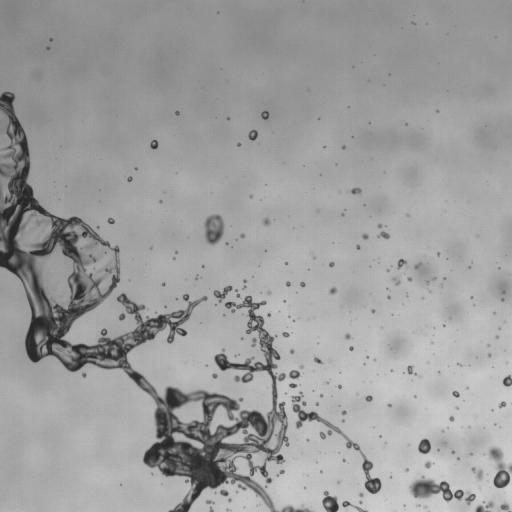droplet: (204, 214, 224, 245), (322, 490, 340, 511), (213, 285, 233, 302), (417, 438, 431, 454), (470, 467, 483, 481), (496, 502, 511, 511), (396, 258, 407, 269), (253, 119, 264, 130), (24, 174, 35, 185), (367, 226, 378, 237), (402, 263, 413, 274), (139, 308, 150, 319), (71, 317, 82, 328), (126, 319, 137, 330), (85, 335, 96, 346), (276, 380, 287, 391), (179, 383, 190, 394), (146, 400, 157, 411), (241, 400, 252, 411), (258, 405, 269, 416), (286, 411, 297, 422), (146, 421, 157, 432), (285, 425, 296, 436), (147, 433, 158, 444), (462, 456, 473, 467), (266, 460, 277, 471), (423, 470, 434, 481), (172, 474, 183, 485), (182, 481, 193, 492), (264, 483, 275, 494), (201, 486, 212, 497), (172, 494, 183, 505), (501, 454, 511, 465), (502, 374, 511, 386), (377, 231, 390, 239), (248, 129, 257, 140), (392, 275, 401, 285), (150, 138, 158, 149), (13, 108, 22, 117), (27, 152, 36, 161), (405, 257, 414, 266), (390, 267, 399, 276), (232, 280, 241, 289), (290, 280, 299, 289), (389, 285, 398, 294), (111, 287, 120, 296), (225, 291, 234, 300), (178, 300, 187, 309), (116, 303, 125, 312), (190, 307, 199, 316), (82, 310, 91, 319), (125, 312, 134, 321), (22, 317, 31, 326), (106, 330, 115, 339), (17, 343, 26, 352), (125, 351, 134, 360), (82, 362, 91, 371), (130, 362, 139, 371), (226, 367, 235, 376), (327, 383, 336, 392), (157, 388, 166, 397), (283, 403, 292, 412), (330, 416, 339, 425), (494, 440, 503, 449), (278, 446, 287, 455), (421, 452, 430, 461), (368, 469, 377, 478), (273, 501, 282, 510), (424, 460, 434, 468), (350, 187, 361, 194), (406, 504, 417, 511), (261, 110, 269, 119), (262, 217, 270, 226), (328, 286, 337, 294), (505, 291, 511, 302), (505, 365, 511, 376), (505, 392, 511, 403), (489, 505, 500, 511), (414, 262, 422, 269), (118, 313, 125, 321), (344, 333, 352, 340), (365, 395, 373, 402), (498, 401, 506, 408), (0, 109, 5, 120), (0, 145, 5, 156), (0, 265, 5, 276), (195, 274, 202, 281), (452, 390, 459, 397), (11, 99, 18, 106), (19, 120, 26, 127), (3, 137, 10, 144), (26, 142, 33, 149), (6, 157, 13, 164), (31, 191, 38, 198), (209, 208, 216, 215), (62, 212, 69, 219), (199, 215, 206, 222), (199, 226, 206, 233), (218, 236, 225, 243), (358, 238, 365, 245), (117, 250, 124, 257), (118, 272, 125, 279), (399, 275, 406, 282), (251, 296, 258, 303), (235, 297, 242, 304), (241, 306, 248, 313), (159, 308, 166, 315), (253, 308, 260, 315), (163, 324, 170, 331), (251, 329, 258, 336), (173, 332, 180, 339), (489, 337, 496, 344), (144, 338, 151, 345), (346, 338, 353, 345), (270, 341, 277, 348), (22, 354, 29, 361), (47, 354, 54, 361), (226, 355, 233, 362), (237, 357, 244, 364), (213, 365, 220, 372), (116, 367, 123, 374), (237, 368, 244, 375), (284, 376, 291, 383), (128, 378, 135, 385), (170, 381, 177, 388), (206, 387, 213, 394), (291, 388, 298, 395), (228, 392, 235, 399), (303, 406, 310, 413), (316, 409, 323, 416), (302, 418, 309, 425), (337, 422, 344, 429), (321, 425, 328, 432), (144, 442, 151, 449), (482, 446, 489, 453), (137, 451, 144, 458), (141, 463, 148, 470), (152, 466, 159, 473), (490, 468, 497, 475), (469, 472, 476, 479), (171, 474, 178, 481), (433, 477, 440, 484), (218, 482, 225, 489), (245, 487, 252, 494), (406, 491, 413, 498), (415, 496, 422, 503), (470, 500, 477, 507), (493, 501, 500, 508), (361, 233, 369, 239), (506, 401, 511, 410), (336, 506, 345, 511), (345, 506, 354, 511), (107, 217, 114, 223), (281, 332, 289, 337), (335, 384, 342, 389), (127, 176, 132, 182), (329, 261, 334, 267), (300, 281, 305, 287), (342, 458, 348, 463), (358, 492, 364, 497), (187, 507, 194, 511), (263, 507, 270, 511), (417, 507, 424, 511), (240, 233, 245, 238), (356, 244, 361, 249), (285, 281, 290, 286), (266, 290, 271, 295), (289, 349, 294, 354), (81, 372, 86, 377), (212, 373, 217, 378), (341, 410, 346, 415), (449, 416, 454, 421), (47, 41, 52, 46), (7, 87, 12, 92), (3, 134, 8, 139), (156, 144, 161, 149), (6, 148, 11, 153), (350, 183, 355, 188), (353, 192, 358, 197), (49, 209, 54, 214), (76, 213, 81, 218), (258, 216, 263, 221), (81, 217, 86, 222), (268, 217, 273, 222), (262, 224, 267, 229), (380, 226, 385, 231), (93, 227, 98, 232), (376, 227, 381, 232), (383, 227, 388, 232), (362, 228, 367, 233), (235, 233, 240, 238), (102, 236, 107, 241), (238, 237, 243, 242), (109, 242, 114, 247), (327, 257, 332, 262), (393, 258, 398, 263), (413, 259, 418, 264), (392, 261, 397, 266), (401, 263, 406, 268), (418, 265, 423, 270), (245, 275, 250, 280), (437, 276, 442, 281), (115, 281, 120, 286), (222, 282, 227, 287), (326, 284, 331, 289), (218, 288, 223, 293), (181, 289, 186, 294), (384, 290, 389, 295), (332, 292, 337, 297), (502, 293, 507, 298), (126, 294, 131, 299), (178, 296, 183, 301), (188, 296, 193, 301), (470, 298, 475, 303), (135, 300, 140, 305), (199, 300, 204, 305), (258, 304, 263, 309), (137, 309, 142, 314), (114, 312, 119, 317), (130, 312, 135, 317), (152, 313, 157, 318), (188, 314, 193, 319), (245, 315, 250, 320), (262, 315, 267, 320), (141, 316, 146, 321), (178, 323, 183, 328), (261, 323, 266, 328), (496, 330, 501, 335), (268, 331, 273, 336), (340, 331, 345, 336), (349, 331, 354, 336), (86, 341, 91, 346), (139, 342, 144, 347), (167, 342, 172, 347), (255, 342, 260, 347), (287, 344, 292, 349), (486, 347, 491, 352), (215, 349, 220, 354), (317, 354, 322, 359), (271, 358, 276, 363), (364, 358, 369, 363), (262, 360, 267, 365), (59, 363, 64, 368), (96, 366, 101, 371), (295, 366, 300, 371), (100, 367, 105, 372), (411, 367, 416, 372), (104, 368, 109, 373), (262, 369, 267, 374), (284, 370, 289, 375), (502, 372, 507, 377), (409, 373, 414, 378), (267, 377, 272, 382), (291, 378, 296, 383), (237, 379, 242, 384), (275, 379, 280, 384), (246, 380, 251, 385), (498, 380, 503, 385), (267, 386, 272, 391), (457, 388, 462, 393), (216, 389, 221, 394), (141, 390, 146, 395), (267, 393, 272, 398), (299, 396, 304, 401), (317, 397, 322, 402), (275, 398, 280, 403), (370, 398, 375, 403), (364, 400, 369, 405), (505, 401, 510, 406), (339, 405, 344, 410), (247, 406, 252, 411), (336, 410, 341, 415), (338, 413, 343, 418), (342, 414, 347, 419), (311, 418, 316, 423), (447, 420, 452, 425), (331, 430, 336, 435), (284, 431, 289, 436), (420, 434, 425, 439), (351, 437, 356, 442), (341, 438, 346, 443), (415, 439, 420, 444), (428, 439, 433, 444), (277, 449, 282, 454), (419, 452, 424, 457), (451, 453, 456, 458), (366, 456, 371, 461), (358, 458, 363, 463), (429, 464, 434, 469), (264, 465, 269, 470), (474, 465, 479, 470), (359, 469, 364, 474), (467, 469, 472, 474), (267, 472, 272, 477), (379, 478, 384, 483), (445, 478, 450, 483), (488, 479, 493, 484), (266, 482, 271, 487), (380, 482, 385, 487), (498, 486, 503, 491), (237, 487, 242, 492), (450, 488, 455, 493), (363, 489, 368, 494), (376, 490, 381, 495), (328, 491, 333, 496), (227, 492, 232, 497), (320, 493, 325, 498), (222, 495, 227, 500), (256, 495, 261, 500), (451, 496, 456, 501), (499, 499, 504, 504), (336, 500, 341, 505), (226, 502, 231, 507), (303, 503, 308, 508), (359, 503, 364, 508), (169, 504, 174, 509), (292, 504, 297, 509), (175, 110, 179, 115), (174, 250, 178, 255), (407, 277, 412, 281), (267, 312, 271, 317), (349, 346, 353, 351), (299, 364, 303, 369), (404, 468, 409, 472), (227, 497, 231, 502), (209, 506, 213, 511), (46, 46, 50, 50), (435, 109, 439, 113), (226, 116, 230, 120), (237, 142, 241, 146), (341, 145, 345, 149), (249, 194, 253, 198), (158, 199, 162, 203), (406, 213, 410, 217), (162, 282, 166, 286), (386, 287, 390, 291), (427, 289, 431, 293), (501, 290, 505, 294), (371, 309, 375, 313), (495, 335, 499, 339), (430, 340, 434, 344), (487, 353, 491, 357), (319, 393, 323, 397), (413, 394, 417, 398), (315, 402, 319, 406), (387, 403, 391, 407), (341, 418, 345, 422), (451, 450, 455, 454), (456, 456, 460, 460), (358, 500, 362, 504), (410, 21, 415, 24), (437, 252, 440, 257), (226, 508, 231, 511), (508, 478, 511, 483), (508, 504, 511, 509), (241, 508, 246, 511), (321, 508, 326, 511), (352, 508, 357, 511), (421, 508, 426, 511), (134, 167, 138, 170), (316, 208, 319, 212), (149, 246, 152, 250), (284, 261, 287, 265), (201, 264, 204, 268), (386, 268, 389, 272), (387, 295, 390, 299), (164, 304, 167, 308), (492, 311, 496, 314), (288, 314, 291, 318), (486, 344, 490, 347), (366, 355, 369, 359), (390, 368, 393, 372), (437, 371, 441, 374), (465, 386, 469, 389), (455, 406, 459, 409), (441, 429, 444, 433), (306, 438, 309, 442), (337, 480, 340, 484), (423, 505, 427, 508), (0, 90, 2, 95), (49, 38, 52, 41), (341, 213, 344, 216), (96, 225, 99, 228), (225, 242, 228, 245), (172, 257, 175, 260), (402, 272, 405, 275), (251, 275, 254, 278), (443, 277, 446, 280), (175, 297, 178, 300), (470, 296, 473, 299), (283, 299, 286, 302), (501, 298, 504, 301), (214, 303, 217, 306), (222, 313, 225, 316), (292, 319, 295, 322), (503, 320, 506, 323), (442, 324, 445, 327), (498, 327, 501, 330), (240, 337, 243, 340), (373, 358, 376, 361), (284, 392, 287, 395), (468, 425, 471, 428), (446, 426, 449, 429), (389, 475, 392, 478), (235, 490, 238, 493), (413, 19, 416, 22), (410, 23, 413, 26), (49, 34, 52, 37), (46, 37, 49, 40), (45, 49, 48, 52), (173, 108, 176, 111), (177, 108, 180, 111), (432, 108, 435, 111), (438, 108, 441, 111), (259, 109, 262, 112), (267, 109, 270, 112), (172, 112, 175, 115), (436, 112, 439, 115), (176, 114, 179, 117), (224, 114, 227, 117), (258, 115, 261, 118), (267, 115, 270, 118), (229, 117, 232, 120), (261, 118, 264, 121), (367, 118, 370, 121), (225, 119, 228, 122), (316, 119, 319, 122), (407, 122, 410, 125), (249, 127, 252, 130), (254, 127, 257, 130), (350, 132, 353, 135), (153, 136, 156, 139), (255, 136, 258, 139), (249, 139, 252, 142), (234, 141, 237, 144), (322, 142, 325, 145), (340, 142, 343, 145), (147, 143, 150, 146), (344, 143, 347, 146), (238, 145, 241, 148), (149, 147, 152, 150), (323, 147, 326, 150), (344, 147, 347, 150), (152, 148, 155, 151), (340, 148, 343, 151), (132, 164, 135, 167), (137, 166, 140, 169), (135, 169, 138, 172), (125, 174, 128, 177), (131, 175, 134, 178), (124, 178, 127, 181), (130, 179, 133, 182), (360, 190, 363, 193), (248, 191, 251, 194), (252, 194, 255, 197), (159, 196, 162, 199), (162, 199, 165, 202), (159, 202, 162, 205), (342, 210, 345, 213), (337, 212, 340, 215), (108, 214, 111, 217), (343, 214, 346, 217), (339, 215, 342, 218), (112, 216, 115, 219), (104, 218, 107, 221), (378, 220, 381, 223), (109, 223, 112, 226), (374, 223, 377, 226), (240, 230, 243, 233), (244, 233, 247, 236), (388, 236, 391, 239), (228, 242, 231, 245), (147, 244, 150, 247), (359, 244, 362, 247), (353, 245, 356, 248), (118, 247, 121, 250), (151, 247, 154, 250), (261, 248, 264, 251), (266, 248, 269, 251), (437, 248, 440, 251), (356, 249, 359, 252), (177, 250, 180, 253), (263, 251, 266, 254), (312, 252, 315, 255), (433, 252, 436, 255), (173, 253, 176, 256), (439, 253, 442, 256), (309, 255, 312, 258), (284, 258, 287, 261), (172, 259, 175, 262), (312, 259, 315, 262), (445, 259, 448, 262), (287, 261, 290, 264), (326, 261, 329, 264), (281, 262, 284, 265), (468, 262, 471, 265), (198, 263, 201, 266), (496, 263, 499, 266), (284, 264, 287, 267), (332, 265, 335, 268), (464, 265, 467, 268), (328, 266, 331, 269), (388, 266, 391, 269), (500, 266, 503, 269), (201, 267, 204, 270), (383, 268, 386, 271), (497, 269, 500, 272), (433, 273, 436, 276), (442, 273, 445, 276), (192, 274, 195, 277), (407, 274, 410, 277), (430, 274, 433, 277), (241, 276, 244, 279), (411, 277, 414, 280), (426, 277, 429, 280), (287, 278, 290, 281), (161, 279, 164, 282), (443, 279, 446, 282), (164, 280, 167, 283), (303, 280, 306, 283), (392, 280, 395, 283), (407, 280, 410, 283), (422, 280, 425, 283), (429, 280, 432, 283), (289, 281, 292, 284), (158, 282, 161, 285), (228, 282, 231, 285), (244, 282, 247, 285), (282, 282, 285, 285), (164, 283, 167, 286), (304, 283, 307, 286), (397, 283, 400, 286), (240, 284, 243, 287), (284, 285, 287, 288), (287, 285, 290, 288), (298, 285, 301, 288), (301, 286, 304, 289), (382, 286, 385, 289), (21, 287, 24, 290), (231, 287, 234, 290), (499, 288, 502, 291), (388, 292, 391, 295), (403, 292, 406, 295), (407, 292, 410, 295), (470, 292, 473, 295), (500, 294, 503, 297), (390, 295, 393, 298), (283, 296, 286, 299), (384, 297, 387, 300), (503, 298, 506, 301), (285, 300, 288, 303), (499, 300, 502, 303), (372, 306, 375, 309), (491, 308, 494, 311), (368, 310, 371, 313), (374, 310, 377, 313), (495, 311, 498, 314), (230, 312, 233, 315), (270, 312, 273, 315), (393, 312, 396, 315), (284, 314, 287, 317), (289, 317, 292, 320), (294, 318, 297, 321), (443, 321, 446, 324), (439, 324, 442, 327), (442, 326, 445, 329), (98, 328, 101, 331), (287, 330, 290, 333), (492, 333, 495, 336), (284, 336, 287, 339), (237, 337, 240, 340), (316, 338, 319, 341), (495, 338, 498, 341), (240, 339, 243, 342), (164, 340, 167, 343), (487, 340, 490, 343), (346, 345, 349, 348), (352, 347, 355, 350), (276, 349, 279, 352), (347, 349, 350, 352), (293, 350, 296, 353), (287, 351, 290, 354), (365, 352, 368, 355), (484, 353, 487, 356), (490, 353, 493, 356), (247, 355, 250, 358), (311, 355, 314, 358), (368, 356, 371, 359), (375, 358, 378, 361), (458, 360, 461, 363), (314, 361, 317, 364), (453, 361, 456, 364), (408, 362, 411, 365), (456, 364, 459, 367), (459, 366, 462, 369), (387, 367, 390, 370), (392, 367, 395, 370), (436, 367, 439, 370), (490, 367, 493, 370), (439, 369, 442, 372), (335, 370, 338, 373), (404, 370, 407, 373), (390, 371, 393, 374), (416, 371, 419, 374), (299, 372, 302, 375), (435, 372, 438, 375), (338, 373, 341, 376), (211, 377, 214, 380), (328, 381, 331, 384), (338, 381, 341, 384), (324, 383, 327, 386), (464, 383, 467, 386), (341, 385, 344, 388), (504, 385, 507, 388), (288, 386, 291, 389), (312, 386, 315, 389), (335, 386, 338, 389), (468, 386, 471, 389), (338, 388, 341, 391), (451, 388, 454, 391), (319, 390, 322, 393), (302, 391, 305, 394), (413, 391, 416, 394), (316, 392, 319, 395), (368, 392, 371, 395), (322, 393, 325, 396), (364, 393, 367, 396), (452, 395, 455, 398), (412, 397, 415, 400), (388, 400, 391, 403), (318, 402, 321, 405), (391, 403, 394, 406), (457, 404, 460, 407), (385, 405, 388, 408), (501, 406, 504, 409), (488, 410, 491, 413), (446, 415, 449, 418), (453, 415, 456, 418), (446, 418, 449, 421), (492, 419, 495, 422), (491, 424, 494, 427), (495, 424, 498, 427), (298, 426, 301, 429), (443, 427, 446, 430), (316, 432, 319, 435), (324, 432, 327, 435), (376, 432, 379, 435), (381, 434, 384, 437), (306, 435, 309, 438), (317, 435, 320, 438), (378, 437, 381, 440), (320, 438, 323, 441), (287, 439, 290, 442), (303, 439, 306, 442), (308, 439, 311, 442), (359, 446, 362, 449), (452, 447, 455, 450), (439, 448, 442, 451), (448, 449, 451, 452), (468, 449, 471, 452), (469, 455, 472, 458), (459, 456, 462, 459), (345, 458, 348, 461), (339, 459, 342, 462), (456, 459, 459, 462), (343, 461, 346, 464), (470, 464, 473, 467), (403, 465, 406, 468), (423, 466, 426, 469), (408, 467, 411, 470), (316, 469, 319, 472), (322, 469, 325, 472), (387, 472, 390, 475), (279, 473, 282, 476), (391, 476, 394, 479), (337, 477, 340, 480), (120, 480, 123, 483), (333, 480, 336, 483), (339, 481, 342, 484), (116, 482, 119, 485), (304, 483, 307, 486), (119, 485, 122, 488), (300, 486, 303, 489), (379, 487, 382, 490), (304, 488, 307, 491), (322, 488, 325, 491), (471, 490, 474, 493), (358, 496, 361, 499), (230, 499, 233, 502), (347, 499, 350, 502), (209, 502, 212, 505), (356, 503, 359, 506), (404, 505, 407, 508), (211, 506, 214, 509), (401, 506, 404, 509), (258, 263, 260, 267), (151, 471, 153, 475), (416, 504, 420, 506), (347, 106, 350, 108), (317, 117, 320, 119), (405, 122, 407, 125), (323, 146, 326, 148), (264, 249, 266, 252), (468, 266, 471, 268), (440, 283, 442, 286), (241, 313, 244, 315), (363, 362, 365, 365), (205, 364, 208, 366), (490, 409, 493, 411), (379, 434, 381, 437), (437, 448, 439, 451), (320, 470, 322, 473), (304, 486, 306, 489), (509, 384, 511, 387), (223, 509, 226, 511), (217, 11, 219, 13), (388, 73, 390, 75), (368, 122, 370, 124), (335, 163, 337, 165), (363, 204, 365, 206), (235, 238, 237, 240), (369, 265, 371, 267), (390, 265, 392, 267), (93, 267, 95, 269), (498, 267, 500, 269), (307, 268, 309, 270), (421, 297, 423, 299), (473, 304, 475, 306), (278, 310, 280, 312), (433, 326, 435, 328), (317, 342, 319, 344), (402, 371, 404, 373), (376, 373, 378, 375), (494, 423, 496, 425), (486, 473, 488, 475), (120, 483, 122, 485), (256, 504, 258, 506), (403, 504, 405, 506), (243, 506, 245, 508), (391, 314, 393, 315), (476, 356, 477, 358), (339, 372, 341, 373), (312, 390, 314, 391), (338, 405, 340, 406), (373, 426, 374, 428), (499, 426, 500, 428), (338, 452, 340, 453), (316, 461, 317, 463), (487, 480, 488, 482), (352, 66, 353, 67), (344, 209, 345, 210), (370, 216, 371, 217), (471, 261, 472, 262), (260, 292, 261, 293), (147, 309, 148, 310)
ligament: (291, 391, 382, 494), (408, 475, 476, 505), (342, 500, 368, 511), (474, 500, 494, 511), (406, 365, 422, 378), (313, 355, 323, 364), (425, 277, 436, 285), (289, 382, 301, 389), (241, 279, 247, 290), (276, 469, 284, 477), (234, 289, 241, 298), (377, 223, 387, 228), (205, 499, 214, 504), (311, 251, 316, 259), (323, 379, 331, 384), (383, 441, 387, 449), (456, 362, 462, 366), (234, 353, 239, 357), (467, 452, 473, 455), (478, 486, 481, 491), (406, 292, 408, 297), (427, 510, 430, 511), (296, 291, 297, 293)
